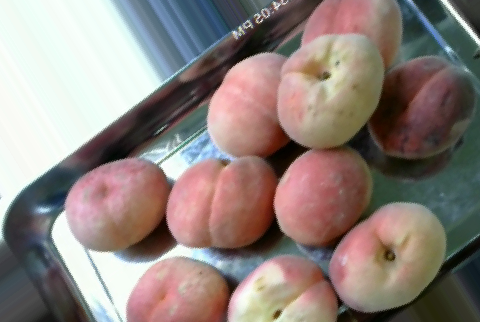Peach: (328, 203, 446, 312), (279, 31, 380, 146), (371, 53, 476, 161), (270, 146, 375, 245), (64, 157, 171, 250), (167, 158, 270, 249), (208, 52, 291, 157), (226, 254, 341, 321), (122, 257, 231, 321)
